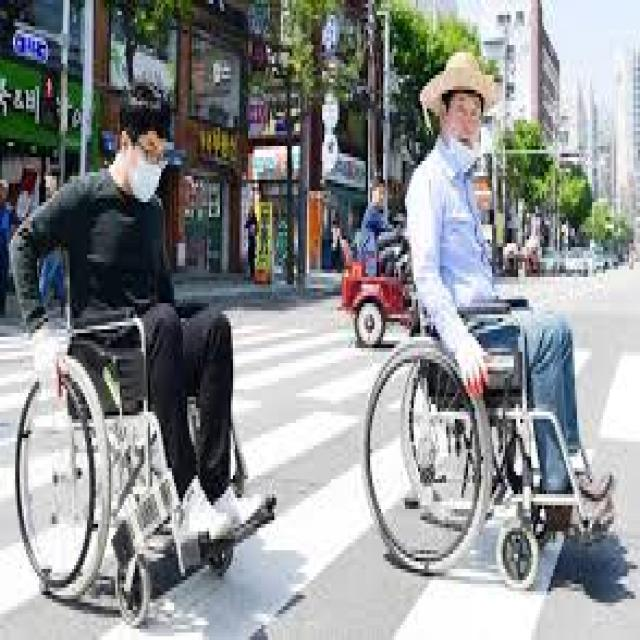wheelchair: (11, 87, 277, 618), (362, 52, 614, 587)
